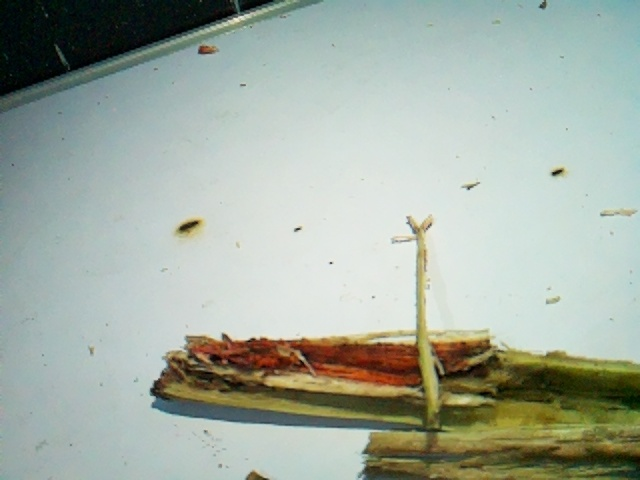Red-Rot: (143, 300, 509, 433)
